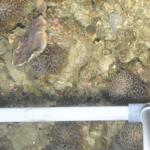dead: (1, 9, 148, 103)
